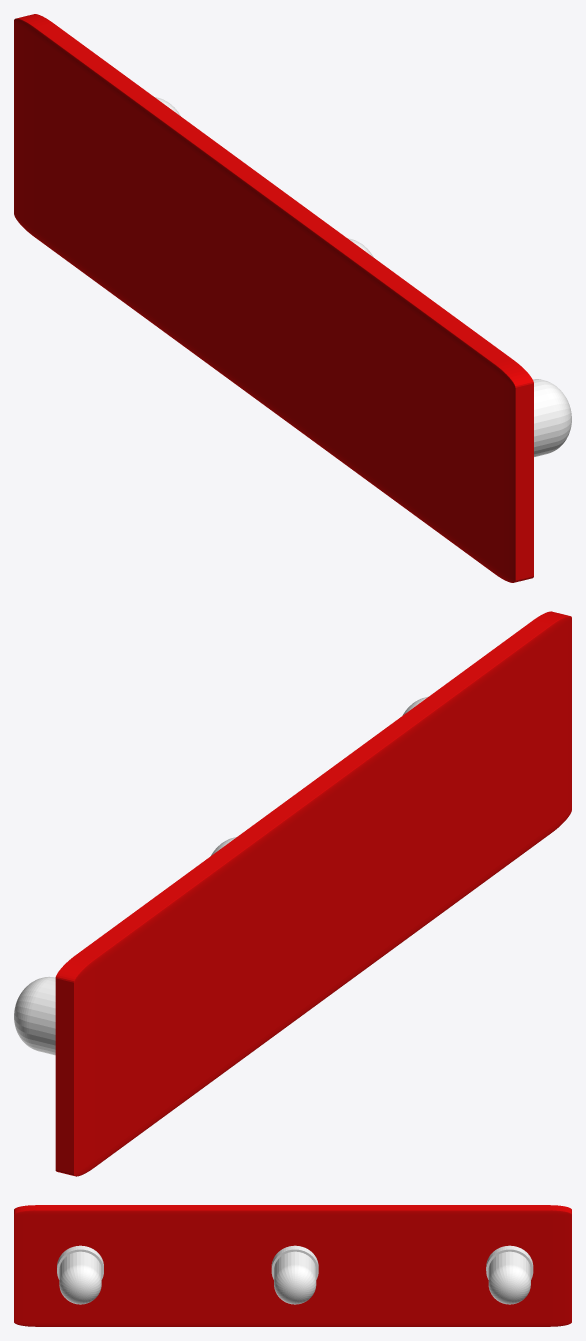
The model's file is front_bumper.dae.
The picture shows the model from 3 angles, top to bottom: view 1: azimuth 30°, elevation 25°; view 2: azimuth 150°, elevation 25°; view 3: azimuth 270°, elevation 25°; orthographic projection. The views are drawn at different scales.
Parts seen in each view (by area): view 1: Terrific_Blad, Terrific_Blad_001; view 2: Terrific_Blad, Terrific_Blad_003; view 3: Terrific_Blad, Terrific_Blad_003, Terrific_Blad_001, Terrific_Blad_002.
Boxes of the visible parts, x1,y1,x2,y2 form: Terrific_Blad: (14, 14, 533, 582); Terrific_Blad_001: (533, 379, 571, 456); Terrific_Blad: (55, 611, 571, 1176); Terrific_Blad_003: (14, 976, 55, 1055); Terrific_Blad: (14, 1205, 571, 1326); Terrific_Blad_003: (486, 1245, 533, 1304); Terrific_Blad_001: (57, 1245, 103, 1304); Terrific_Blad_002: (271, 1245, 318, 1304).
Bounding box in the file's own units: 1.66 × 13 × 3.
